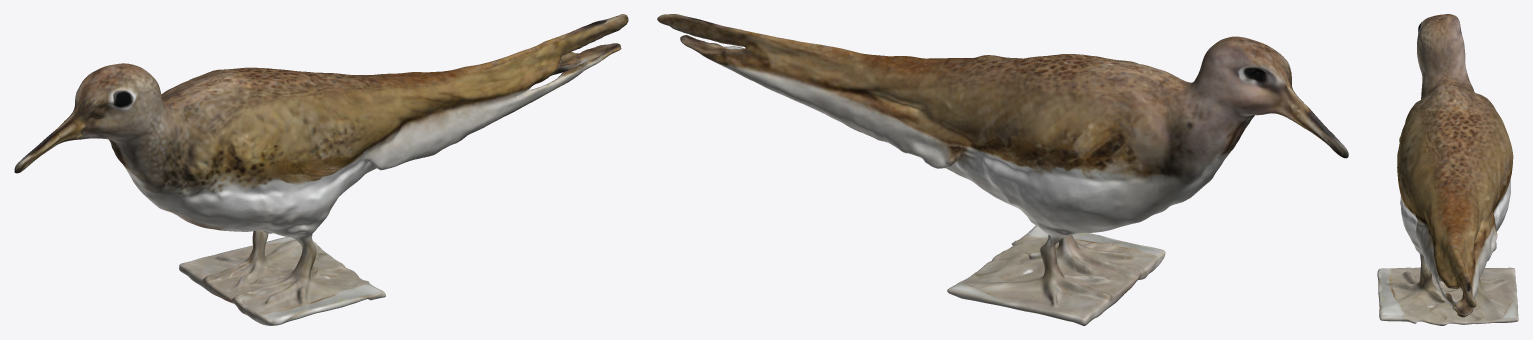
Rendered from Sandpiper_Stroll_1226073514_texture.fbx.
3 renders of one model, left to right at view 1: azimuth 30°, elevation 25°; view 2: azimuth 150°, elevation 25°; view 3: azimuth 270°, elevation 25°, orthographic. The views are drawn at different scales.
Visible parts, largest first — view 1: Mesh1_Mesh1.126; view 2: Mesh1_Mesh1.126; view 3: Mesh1_Mesh1.126.
Part boxes in pixels (box(x1,y1,x2,y2)): Mesh1_Mesh1.126: box(14, 14, 628, 325); Mesh1_Mesh1.126: box(657, 14, 1348, 325); Mesh1_Mesh1.126: box(1377, 14, 1518, 325).
Bounding box in the file's own units: 200 × 80.18 × 47.57.
Materials: 1 (1 with a texture image).
